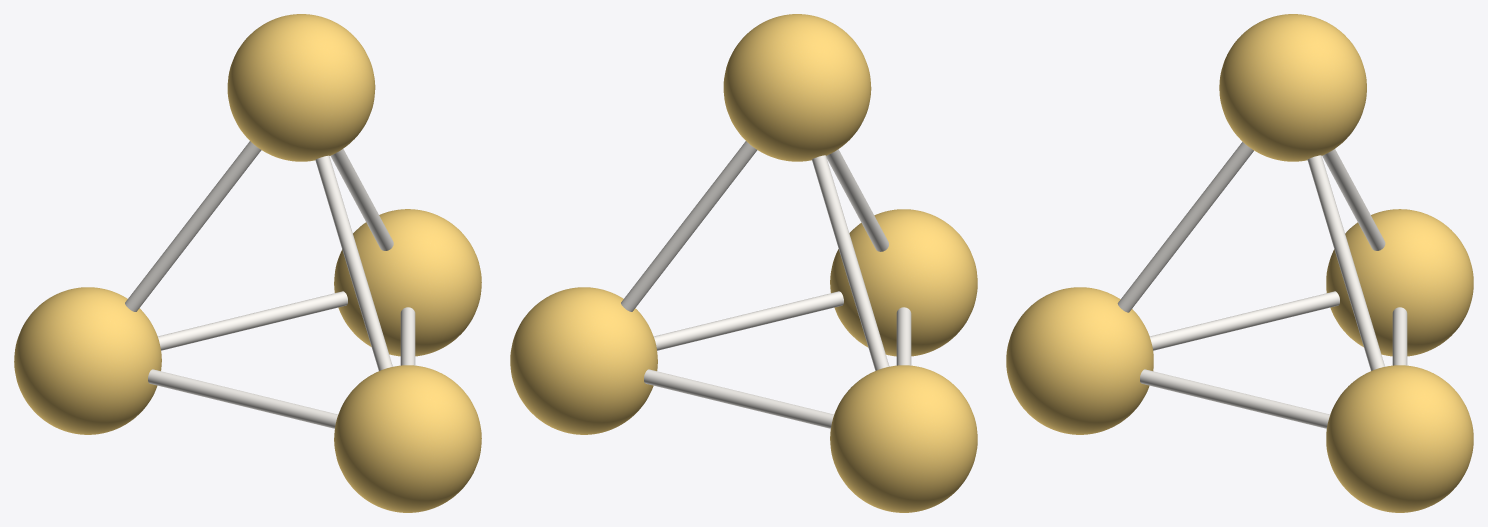
The model's file is s129 8.06 bílý fosfor.glb.
3 views of the same model, side by side, from view 1: azimuth 30°, elevation 25°; view 2: azimuth 150°, elevation 25°; view 3: azimuth 270°, elevation 25° (orthographic).
Parts seen in each view (by area): view 1: Sphere (×4), Cylinder (×6); view 2: Sphere (×4), Cylinder (×6); view 3: Sphere (×4), Cylinder (×6).
Part boxes in pixels (x1=…): Sphere (×4): x1=14, y1=14, x2=481, y2=512; Cylinder (×6): x1=125, y1=141, x2=415, y2=428; Sphere (×4): x1=510, y1=14, x2=977, y2=512; Cylinder (×6): x1=621, y1=141, x2=911, y2=428; Sphere (×4): x1=1006, y1=14, x2=1473, y2=512; Cylinder (×6): x1=1117, y1=142, x2=1407, y2=428.
Size of the model in its own units: 1.4 by 1.22 by 1.27.
Materials: 2 (1 with a texture image).
